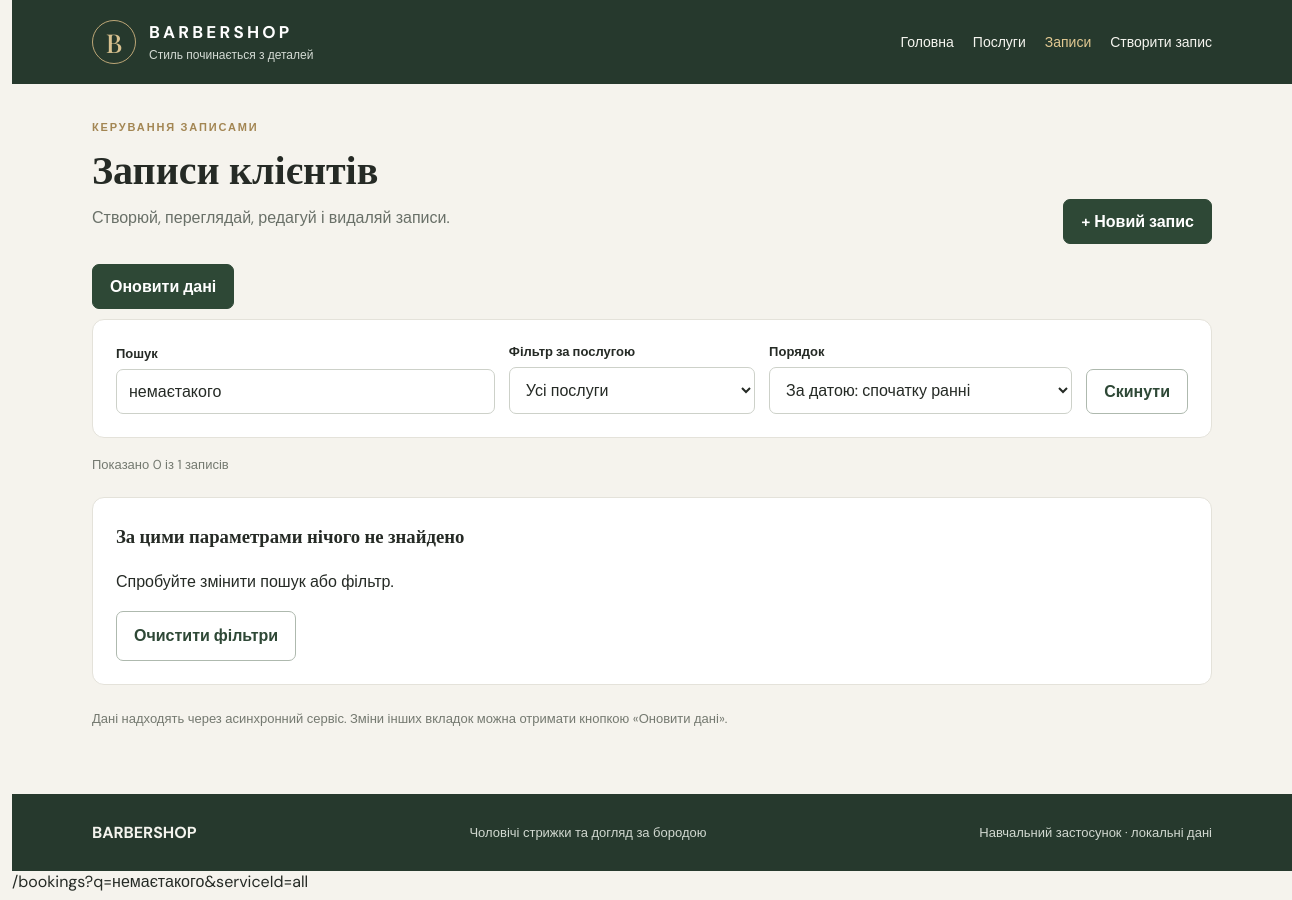
Test: URL без збігів і скидання не змінюють джерело
Expected: the heading "За цими параметрами нічого не знайдено" is shown, left=116, top=523, right=464, bottom=548
Click the button "Очистити фільтри": [206, 636] box left=116, top=611, right=296, bottom=661
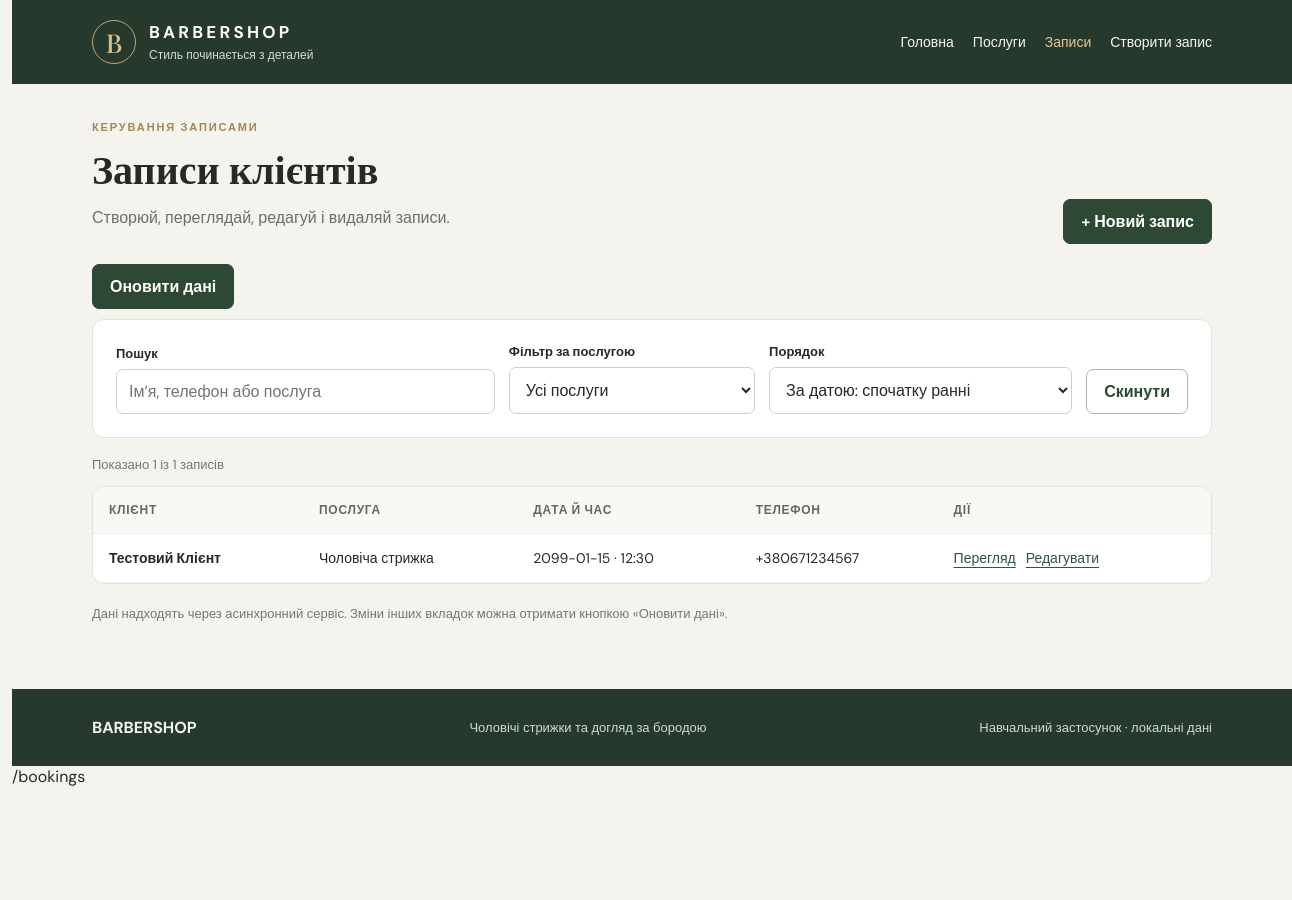
Now the text "Тестовий Клієнт" is shown, box left=109, top=549, right=221, bottom=567
